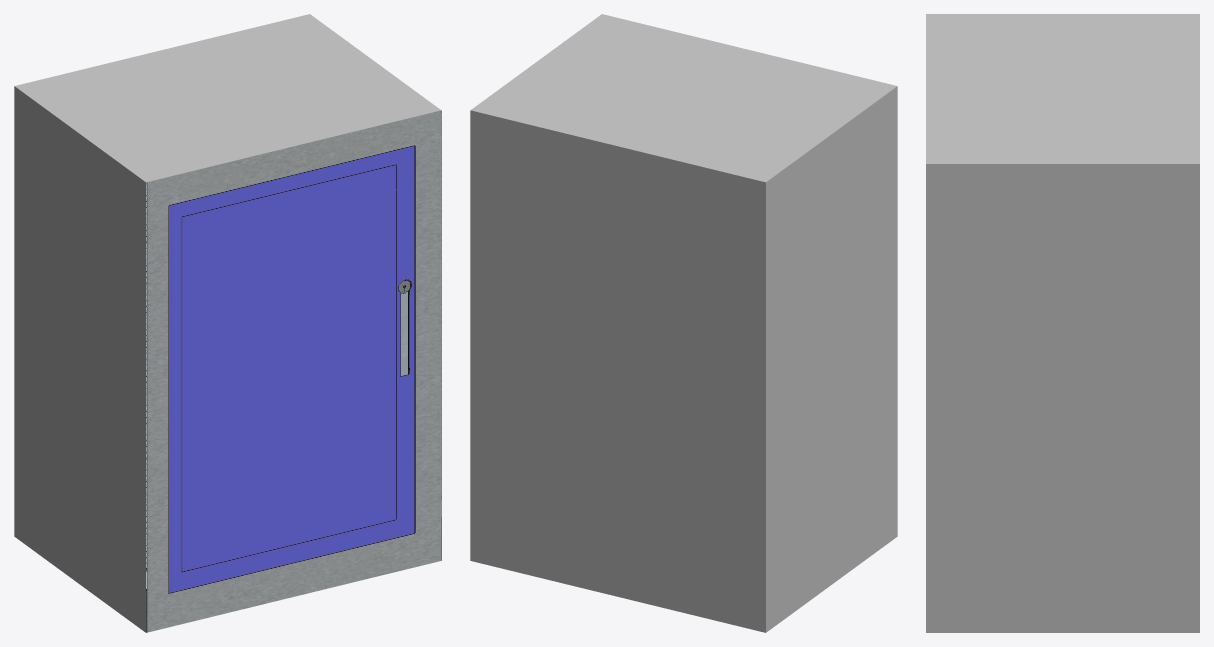
File: ArmarioPequenoLab.dae
The picture shows the model from 3 angles, left to right: view 1: azimuth 30°, elevation 25°; view 2: azimuth 150°, elevation 25°; view 3: azimuth 270°, elevation 25°; orthographic projection. The views are drawn at different scales.
Visible parts, largest first — view 1: instance_0 (×2); view 2: instance_0; view 3: instance_0.
Part boxes in pixels (x1,y1,x2,y2): instance_0 (×2): (14, 14, 441, 632); instance_0: (470, 14, 897, 632); instance_0: (926, 14, 1199, 632).
Bounding box in the file's own units: 27.56 × 21.26 × 40.16.
